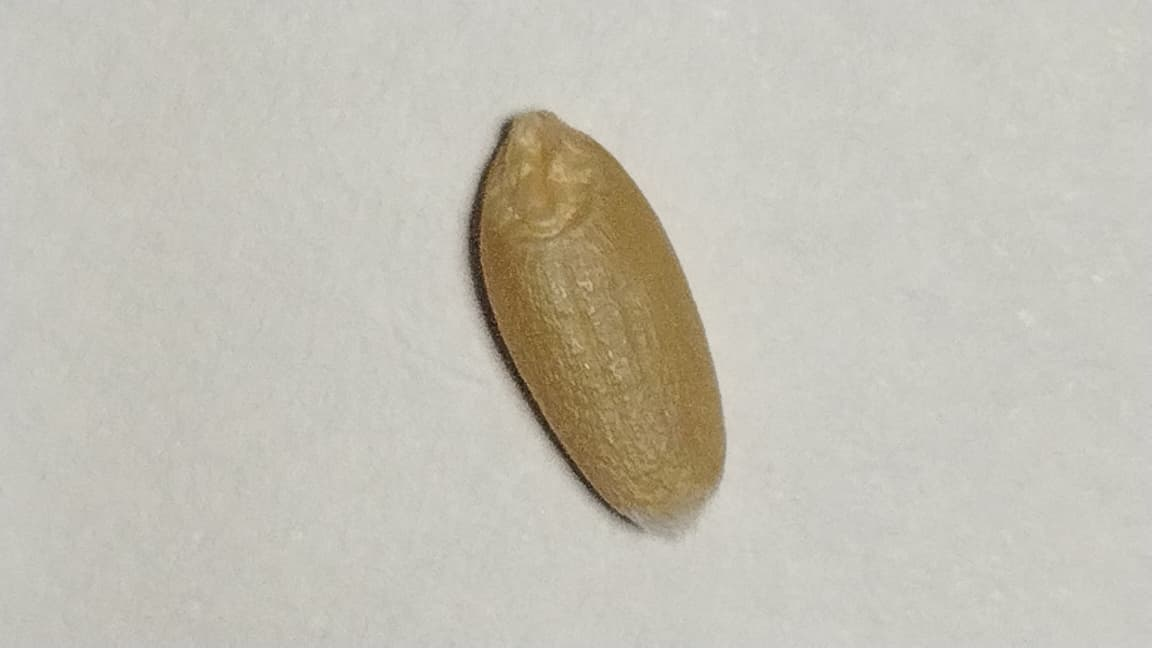healthy: (473, 113, 725, 517)
